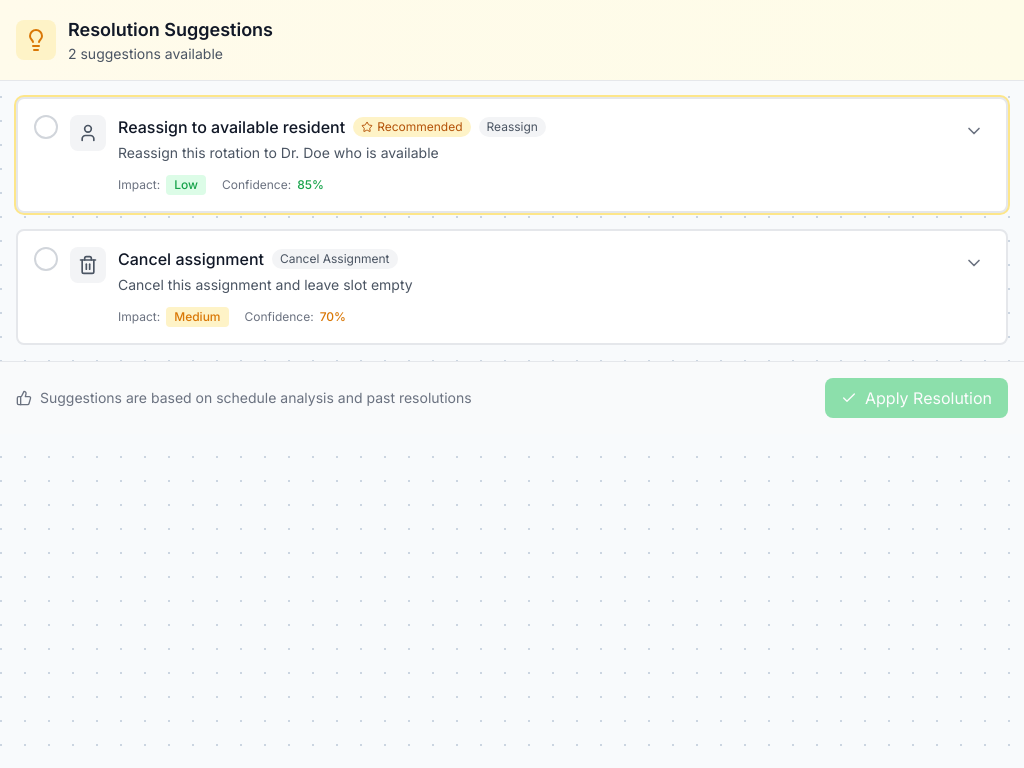
ConflictResolutionSuggestions › Suggestion Selection › should show notes textarea when suggestion selected
Check: the heading "Reassign to available resident" is shown, box x1=118 y1=115 x2=345 y2=139
Click the text "Reassign to available resident". click: (332, 127)
box: x1=118 y1=117 x2=546 y2=137
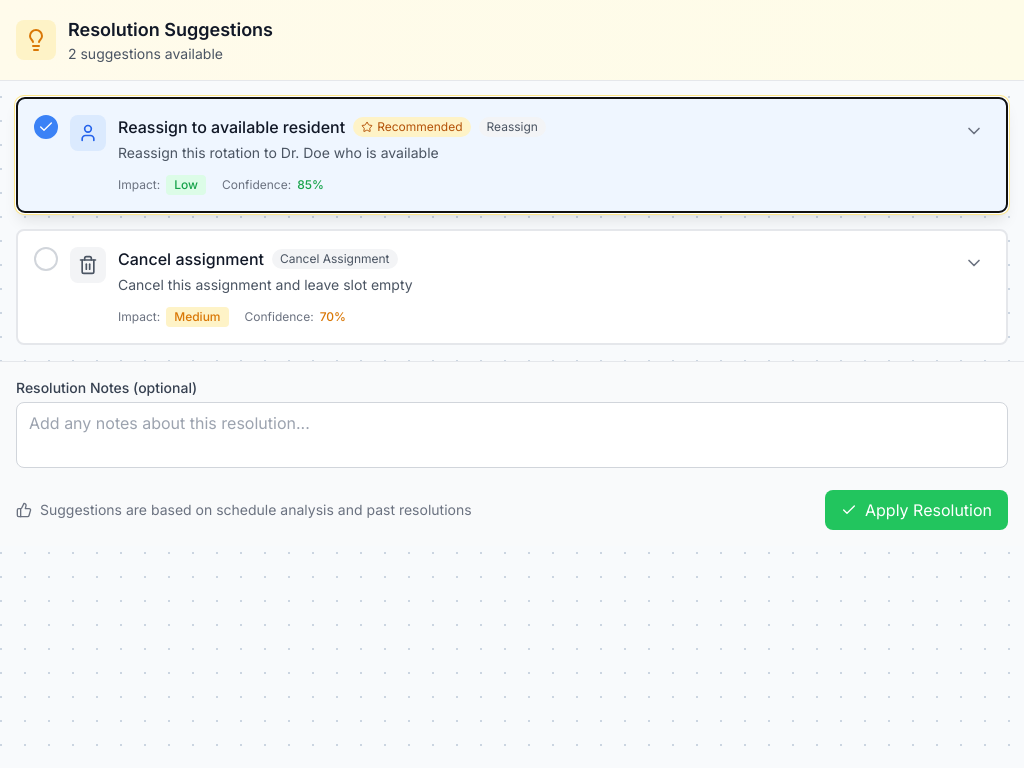
Check: the text box with placeholder "Add any notes about this resolution..." is shown, box x1=16 y1=402 x2=1008 y2=468
